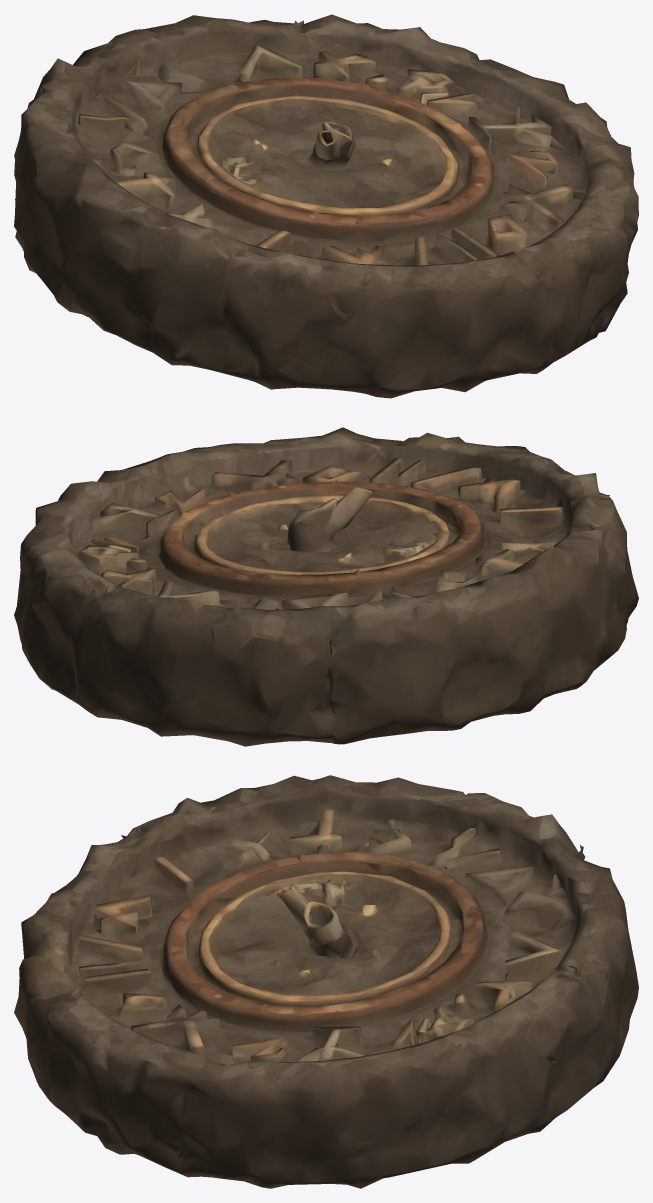
File: pressure_plate.glb
The picture shows the model from 3 angles, top to bottom: view 1: azimuth 30°, elevation 25°; view 2: azimuth 150°, elevation 25°; view 3: azimuth 270°, elevation 25°; orthographic projection. The views are drawn at different scales.
Parts seen in each view (by area): view 1: tripo_node_8437bffd-ae9e-457e-b5ff-af8fd18dc4e9; view 2: tripo_node_8437bffd-ae9e-457e-b5ff-af8fd18dc4e9; view 3: tripo_node_8437bffd-ae9e-457e-b5ff-af8fd18dc4e9.
Part boxes in pixels (<box>): tripo_node_8437bffd-ae9e-457e-b5ff-af8fd18dc4e9: <box>14,14,638,398</box>; tripo_node_8437bffd-ae9e-457e-b5ff-af8fd18dc4e9: <box>14,427,638,746</box>; tripo_node_8437bffd-ae9e-457e-b5ff-af8fd18dc4e9: <box>14,775,638,1188</box>.
Size of the model in its own units: 1 by 0.3314 by 0.9999.
Materials: 1 (1 with a texture image).
